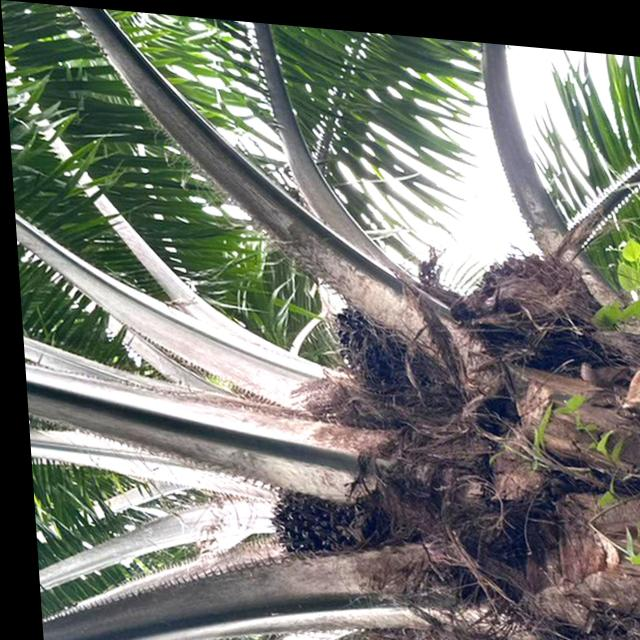unripe: (322, 292, 443, 422), (254, 469, 369, 574)
